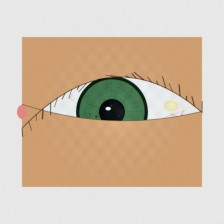pinguecula_lesion: (156, 94, 186, 118)
